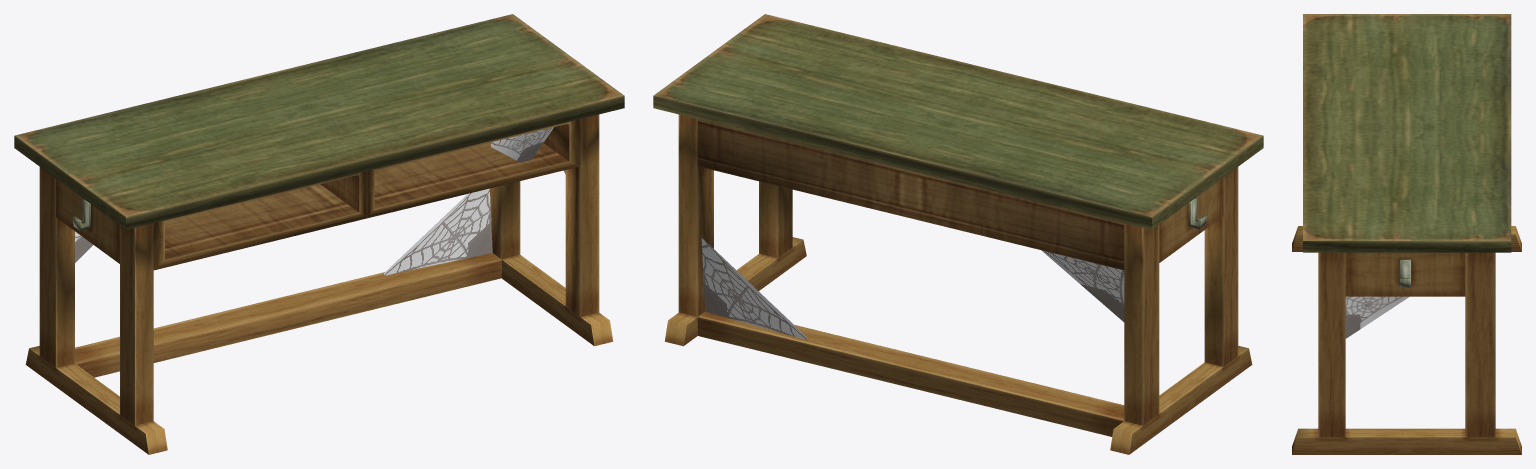
The model's file is a_SWGdesk03b.glb.
3 renders of one model, left to right at view 1: azimuth 30°, elevation 25°; view 2: azimuth 150°, elevation 25°; view 3: azimuth 270°, elevation 25°, orthographic. The views are drawn at different scales.
Visible parts, largest first — view 1: a_SWGdesk03b; view 2: a_SWGdesk03b; view 3: a_SWGdesk03b.
Boxes of the visible parts, bbox=[...] form: a_SWGdesk03b: bbox=[14, 14, 624, 454]; a_SWGdesk03b: bbox=[653, 14, 1263, 454]; a_SWGdesk03b: bbox=[1292, 14, 1521, 454].
Bounding box in the file's own units: 2 × 0.911 × 0.8562.
2 materials, 2 textured.
